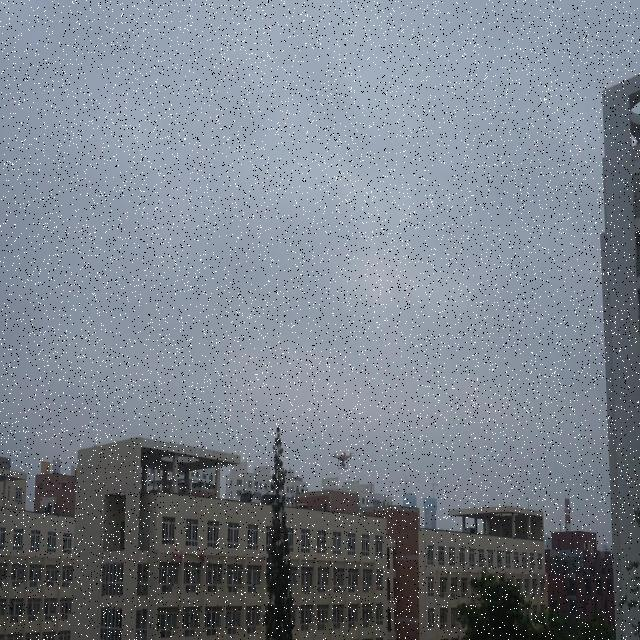UAV: (328, 452, 356, 469)
